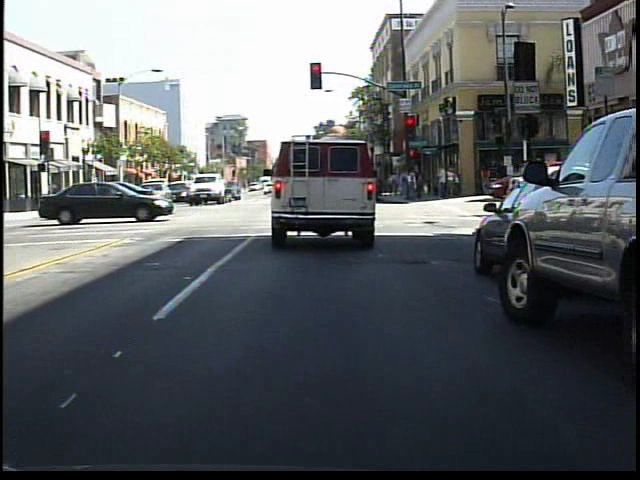person: (476, 160, 496, 197)
